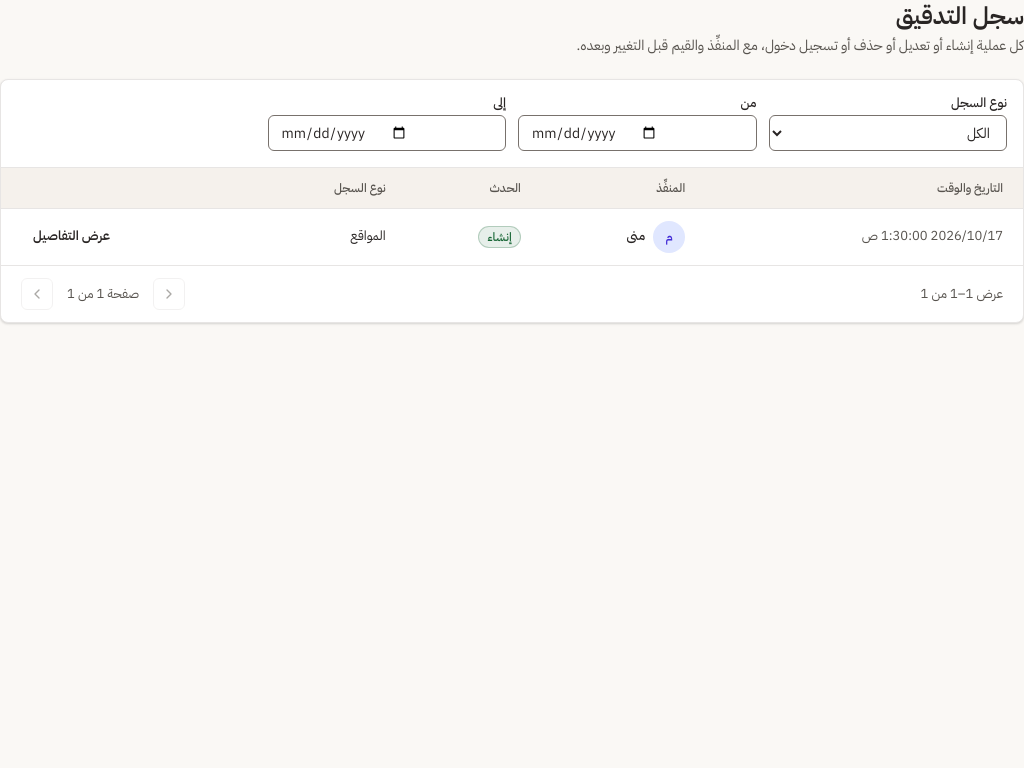
Test case: details sheet shows previous and new values side by side
The width and height of the screenshot is (1024, 768).
Click the button "عرض التفاصيل": {"x": 72, "y": 237} [21,221,122,253]
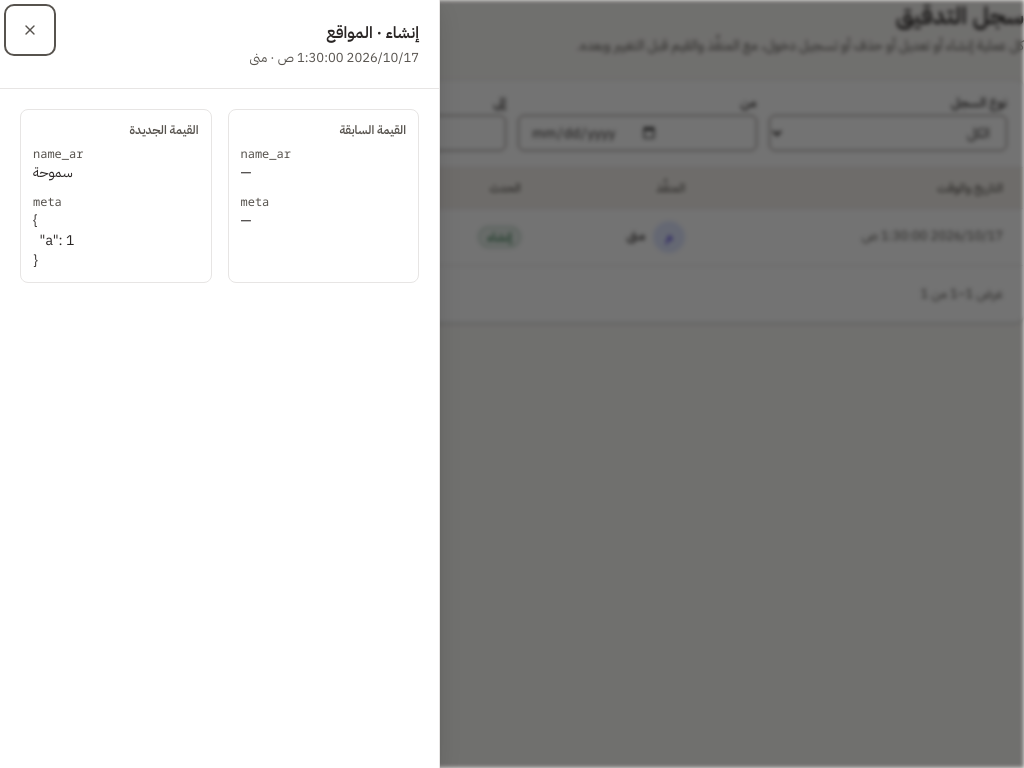
Expected: the text "name_ar" below "القيمة السابقة" is shown, [240,145,291,162]
Expected: the text "—" is shown 2 times, [240,163,251,181]; [240,211,251,229]
Expected: the text "سموحة" is shown, [33,163,73,181]
